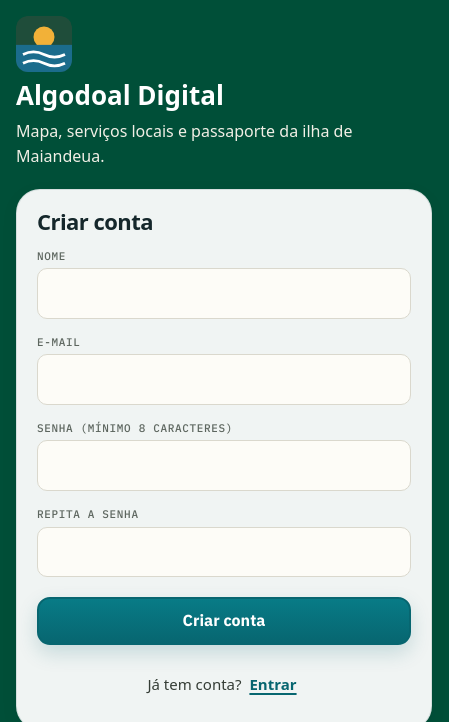
it: cadastro › valida cada campo no cliente
Type "sem-arroba" into the field labelled "E-mail".
click(224, 380); type("sem-arroba")  # box [37,354,411,405]
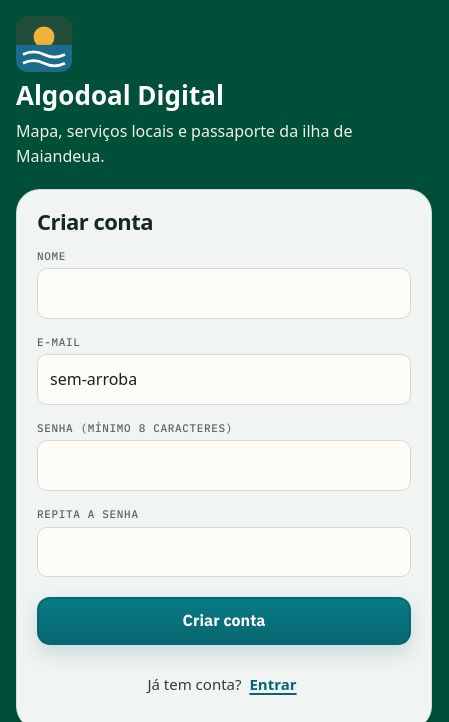
Type "curta" into the password field labelled "Senha (mínimo 8 caracteres)".
click(224, 466); type("curta")  # box [37,440,411,491]
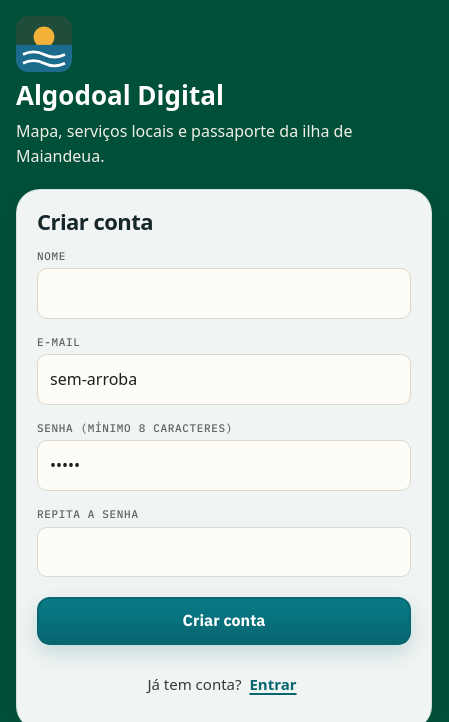
Type "outra" into the password field labelled "Repita a senha".
click(224, 552); type("outra")  # box [37,527,411,577]
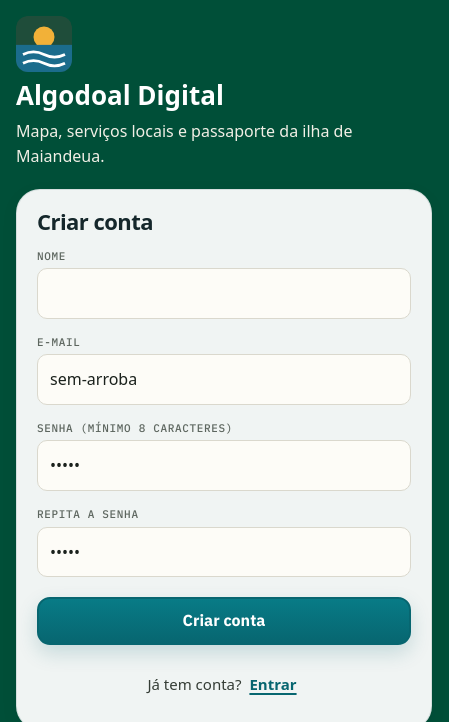
Click the button "Criar conta".
click(224, 621)  # box [37,597,411,645]
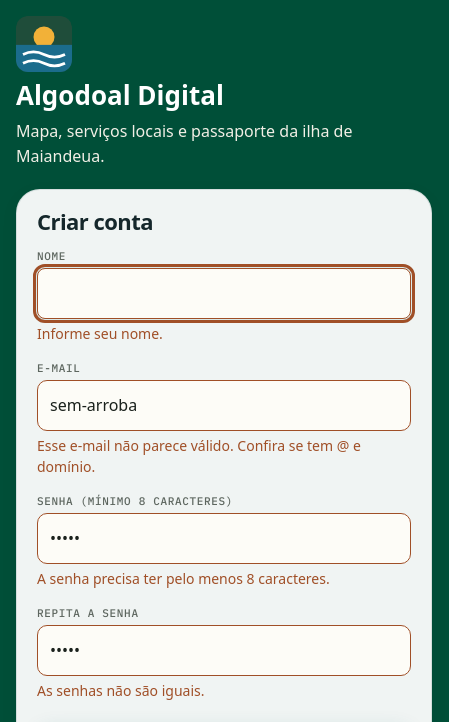
Expected: the text "Informe seu nome." is shown, [37,324,163,343]
Expected: the text "Esse e-mail não parece válido. Confira se tem @ e domínio." is shown, [37,435,411,478]
Expected: the text "A senha precisa ter pelo menos 8 caracteres." is shown, [37,569,330,588]
